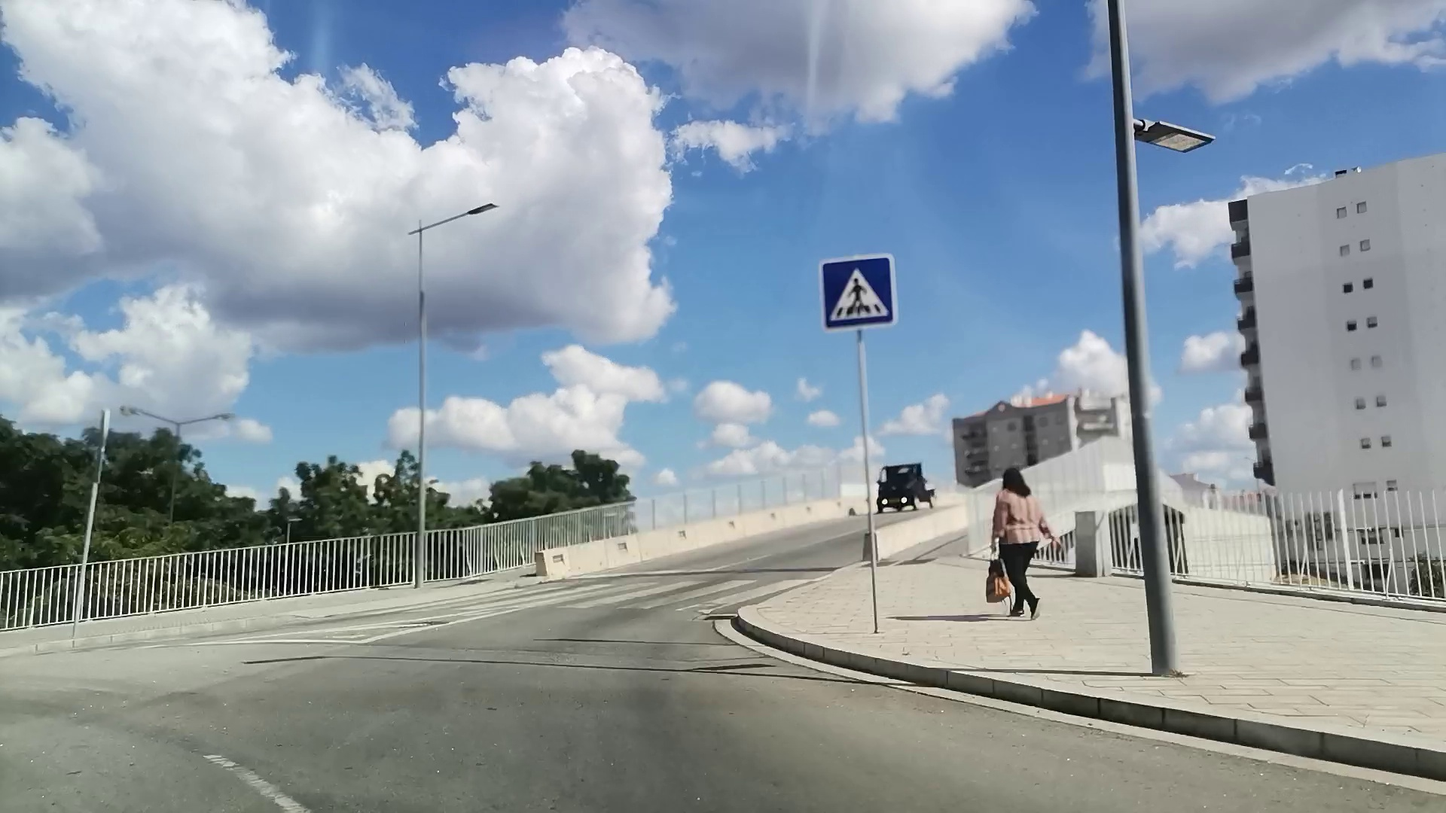Stairs: (436, 576, 804, 616)
